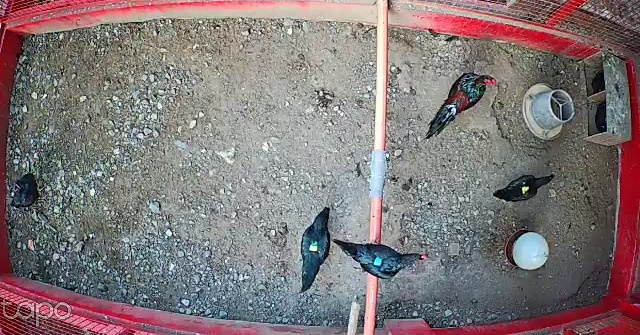Chicken: (331, 231, 430, 281), (293, 205, 341, 297), (490, 167, 558, 207), (9, 173, 46, 210)
Rooster: (423, 70, 497, 140)
Saddle_Color_Blue: (375, 255, 385, 266)
Saddle_Color_Yellow: (519, 182, 531, 195)
Saddle_Color_YellowGreen: (307, 240, 320, 254)
